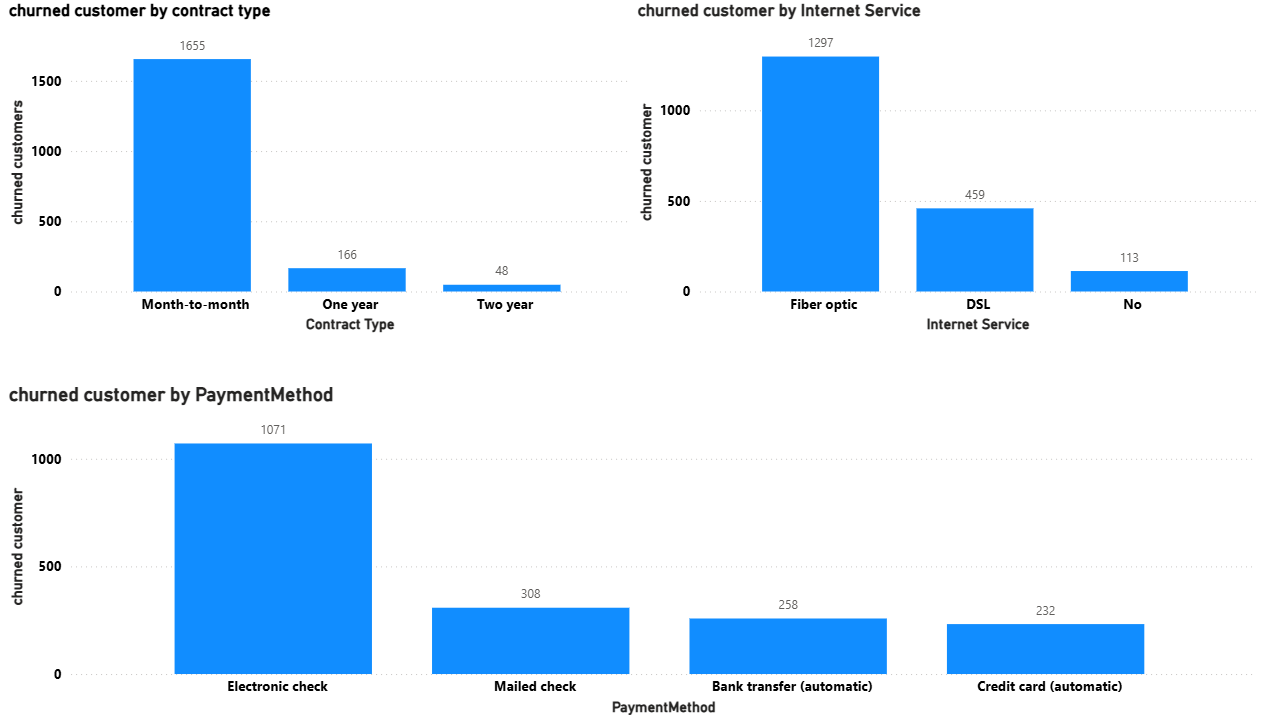

The dashboard page shown, as its layout file describes it:
{"tool":"powerbi","page":{"name":"Churn Drives","canvas":[1280,720],"ordinal":1},"visuals":[{"type":"clusteredColumnChart","title":"churned customer by contract type","fields":{"Category":["telco_churn customers.Contract"],"Y":["telco_churn customers.churned customer"]},"box":[10,0,630.2,337.5],"z":0},{"type":"clusteredColumnChart","title":"churned customer by Internet Service","fields":{"Category":["telco_churn customers.InternetService"],"Y":["telco_churn customers.churned customer"]},"box":[638.3,0,628.5,337.5],"z":1000},{"type":"clusteredColumnChart","fields":{"Category":["telco_churn customers.PaymentMethod"],"Y":["telco_churn customers.churned customer"]},"box":[9.8,384,1257.1,336.3],"z":2000}]}

Visuals, with their boxes in screenshot pixels (x1, y1, x2, y2), scaled from the page's 1280x720 canvas onto the 1264x715 screenshot:
"churned customer by contract type" clusteredColumnChart: left=10, top=0, right=632, bottom=335
"churned customer by Internet Service" clusteredColumnChart: left=630, top=0, right=1251, bottom=335
clusteredColumnChart - telco_churn customers.PaymentMethod x telco_churn customers.churned customer: left=10, top=381, right=1251, bottom=714
